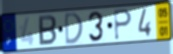3: (87, 10, 105, 43)
4: (19, 16, 36, 49), (137, 7, 153, 39)
B: (38, 14, 58, 47)
D: (64, 11, 84, 47)
P: (113, 8, 133, 41)
